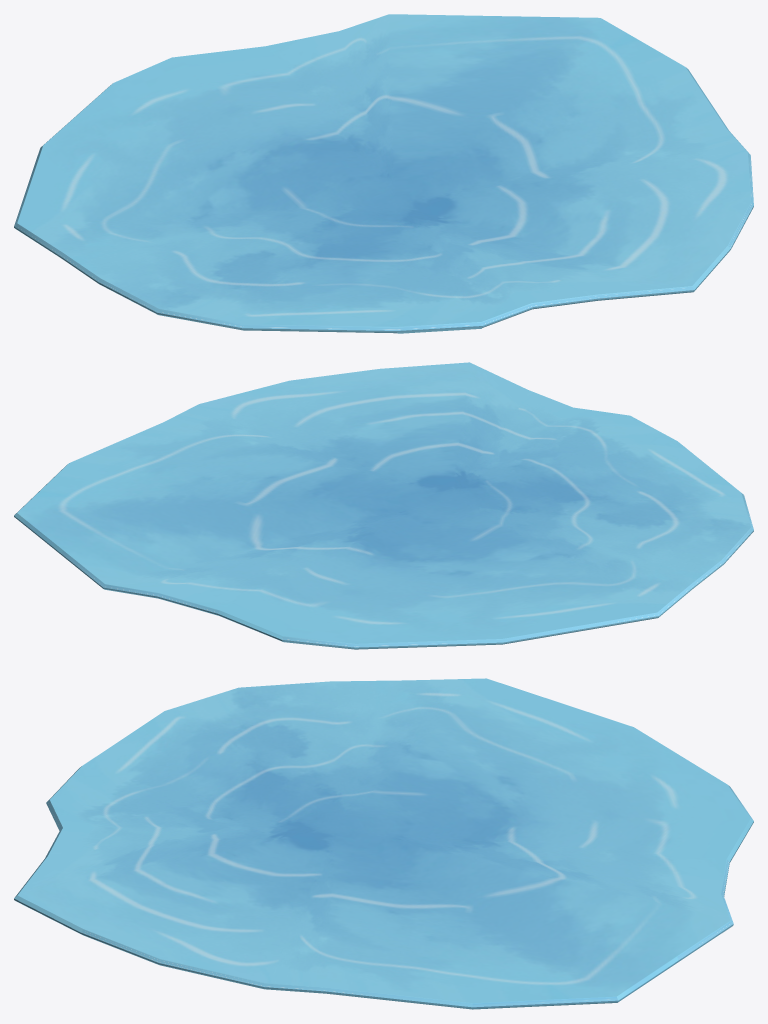
File: Water02.fbx
The picture shows the model from 3 angles, top to bottom: view 1: azimuth 30°, elevation 25°; view 2: azimuth 150°, elevation 25°; view 3: azimuth 270°, elevation 25°; orthographic projection. The views are drawn at different scales.
Parts seen in each view (by area): view 1: pCylinder1; view 2: pCylinder1; view 3: pCylinder1.
Part boxes in pixels (x1,y1,x2,y2): pCylinder1: [14, 14, 753, 333]; pCylinder1: [14, 362, 753, 649]; pCylinder1: [14, 678, 753, 1009].
Size of the model in its own units: 6.93 by 0.056 by 6.62.
Materials: 1 (1 with a texture image).
